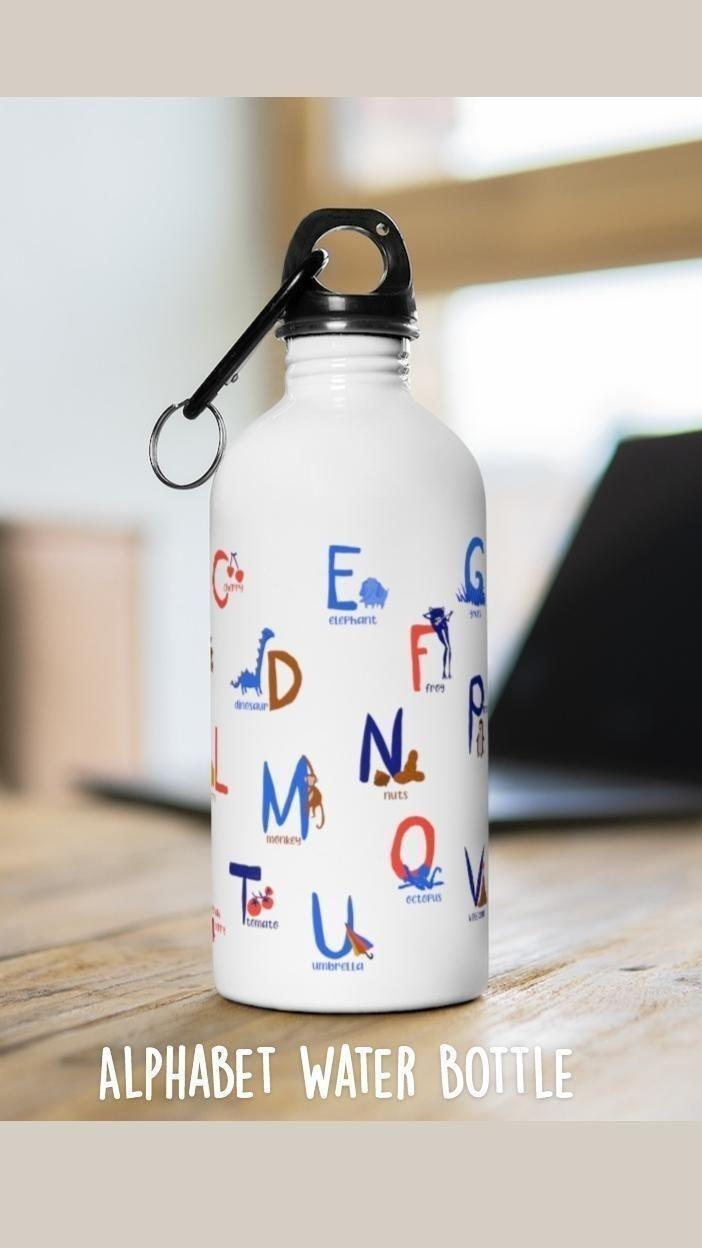gym bottle: (198, 205, 499, 1017)
